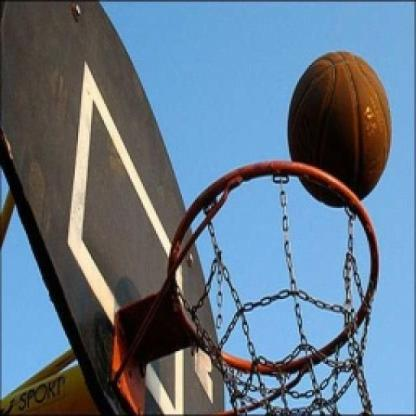basketball: (281, 46, 398, 212)
